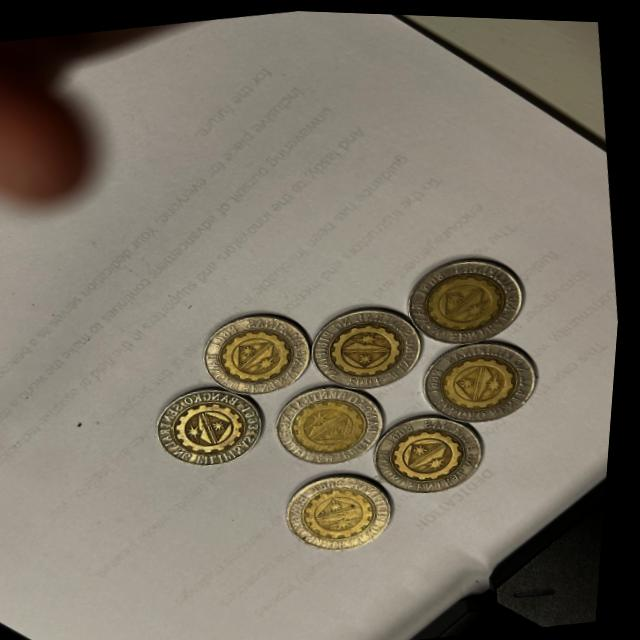10_Old_Back: (277, 374, 385, 467), (215, 309, 322, 400), (418, 250, 526, 339), (315, 297, 421, 386), (163, 383, 264, 466), (433, 337, 536, 418), (380, 411, 485, 490), (293, 471, 398, 550)
